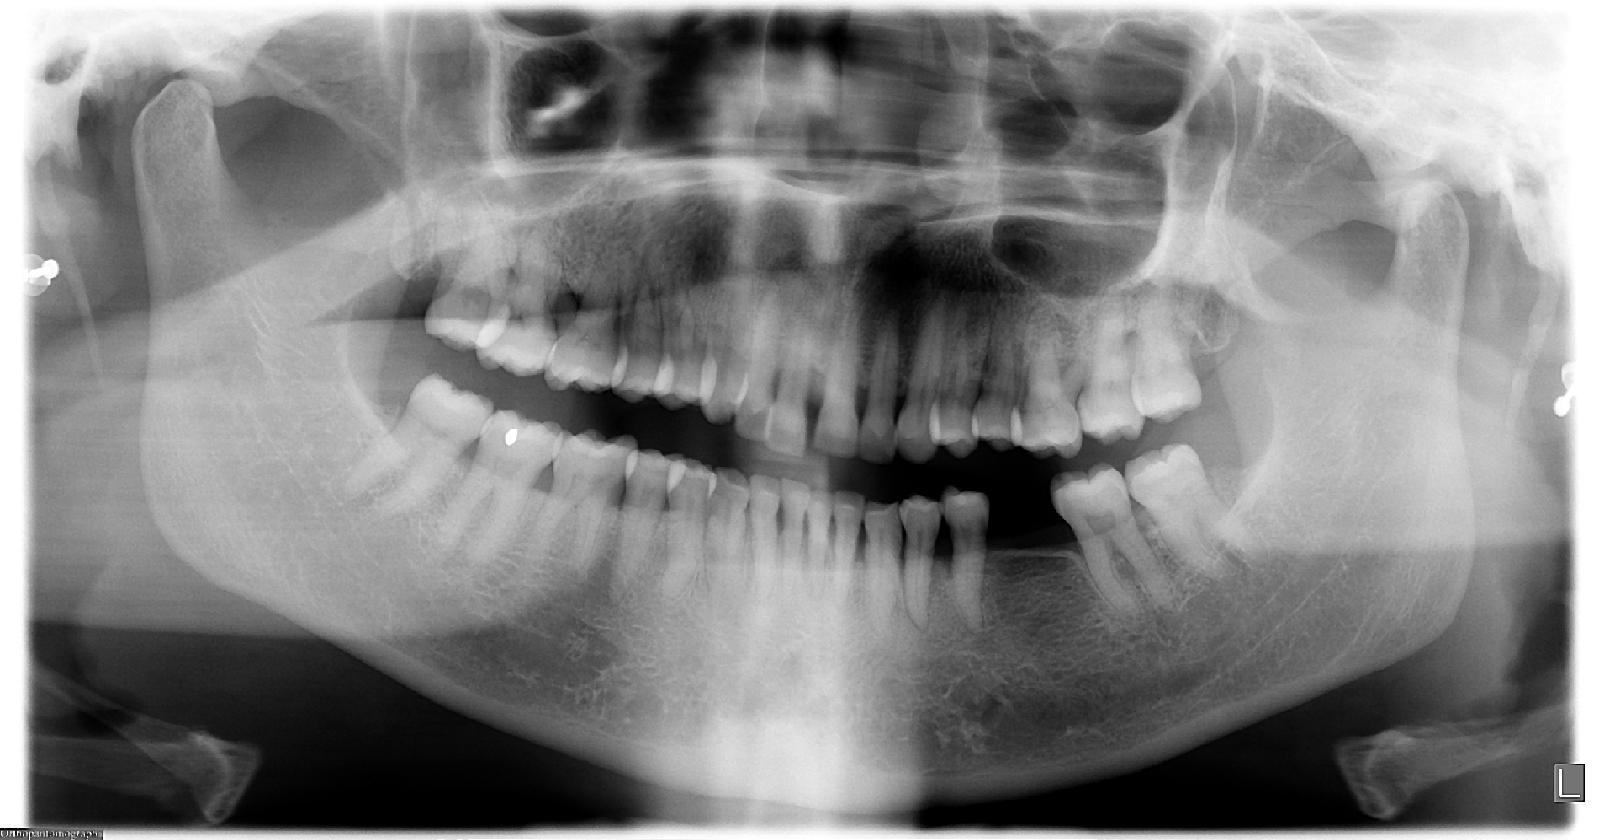Erupted: (1122, 445, 1270, 596), (347, 375, 487, 523)
